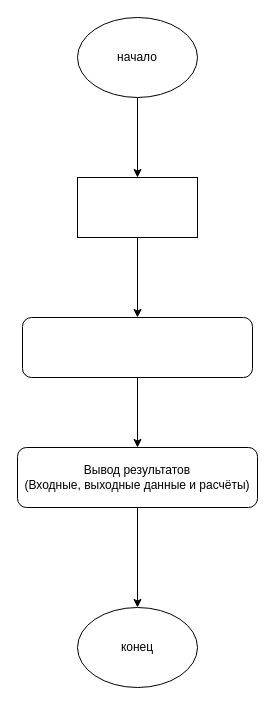
This 275x705 diagram has some shape labels left out. The shapes that lost their labels are listed below. From the top down, each one's centre as x and y in pixels, then its label:
At (x=137, y=207): "ввод quarts".
At (x=137, y=347): "total_distance = quarts / 12".
